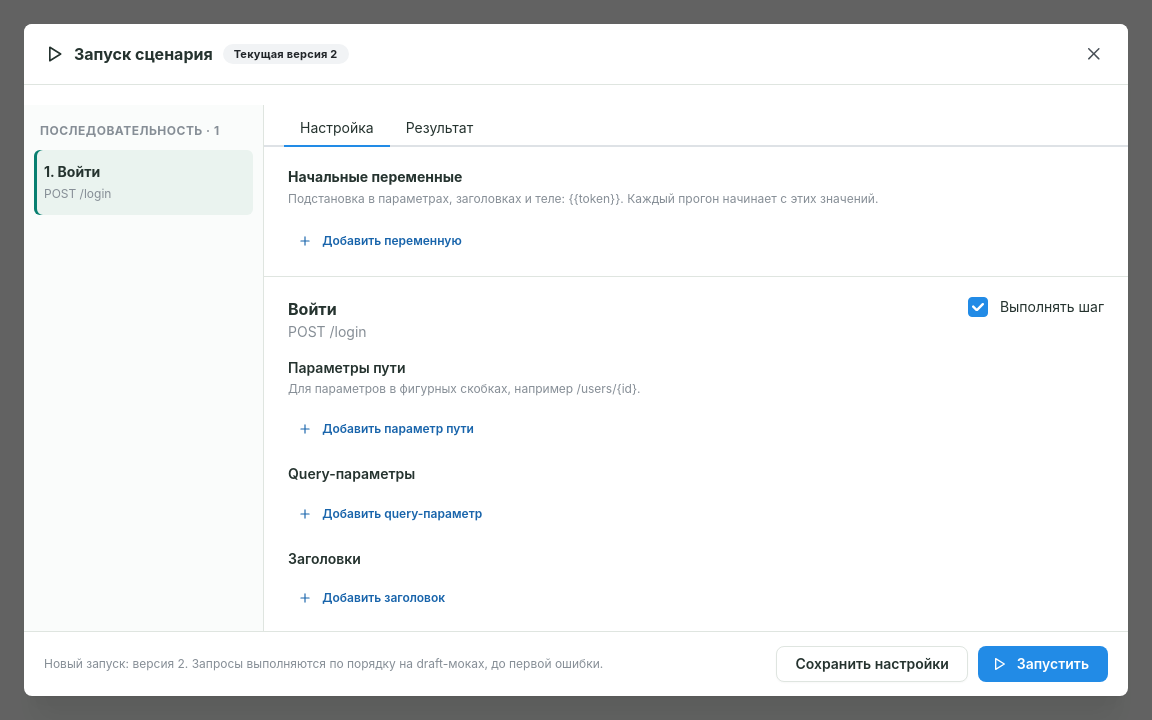
Test: ScenarioExecutionPanel › starts and displays a run without randomUUID on HTTP
This screenshot has width=1152, height=720.
Click the button "Запустить".
click(1043, 664)  # box [978, 646, 1108, 682]
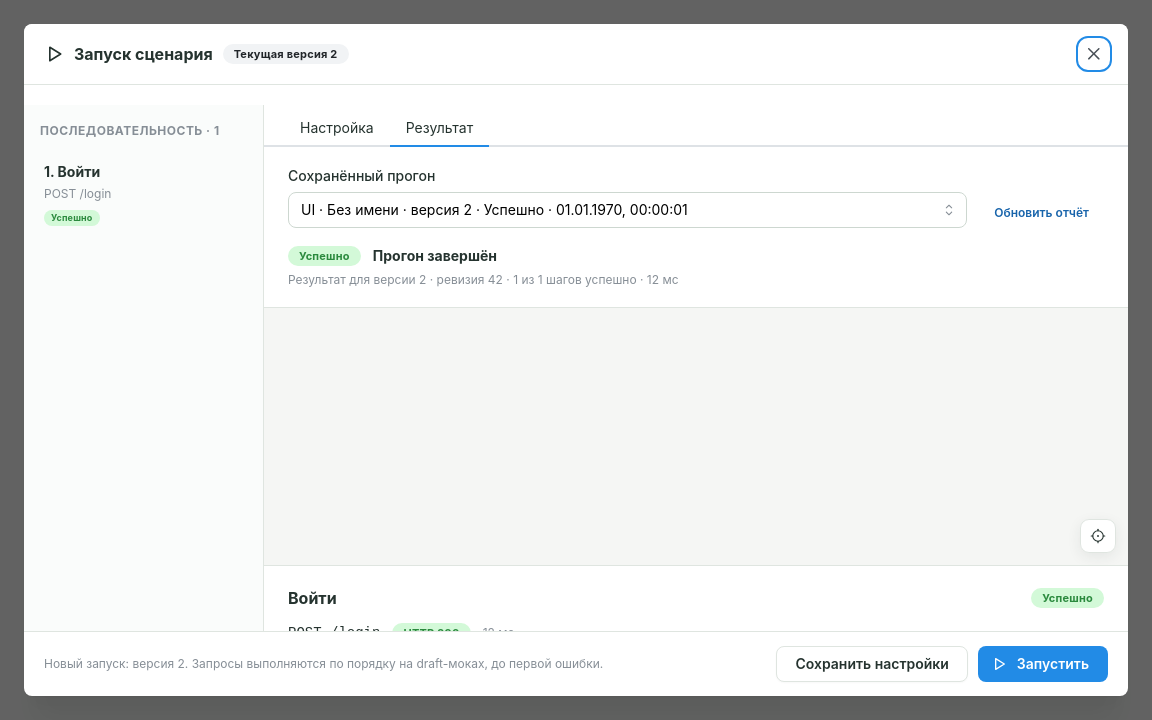
Now the text "Прогон завершён" is shown, box [373, 246, 497, 266]
